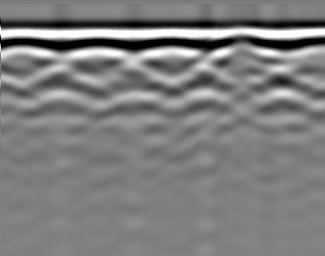pipe: (225, 29, 258, 55)
steel: (108, 63, 161, 104), (36, 65, 84, 103), (183, 67, 221, 105)
